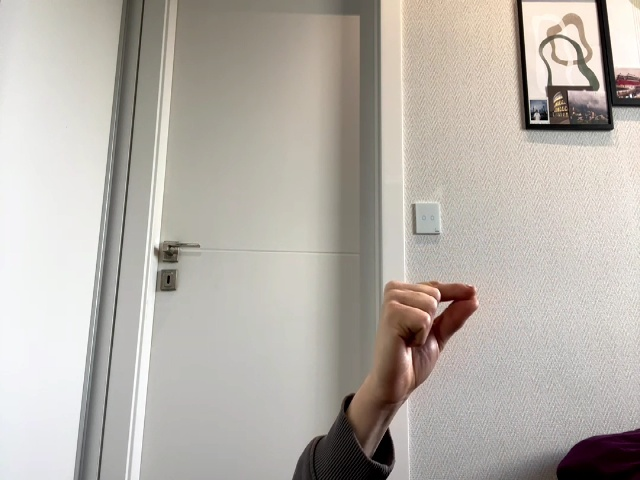P: (378, 282, 478, 392)
